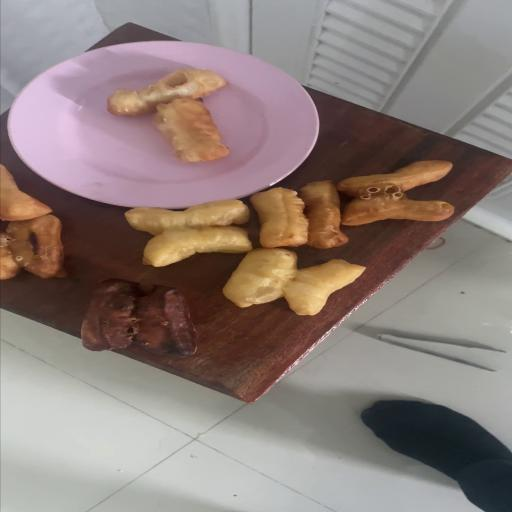street_burnt_defect: (78, 279, 196, 356)
street_golden_good: (125, 199, 252, 266)
